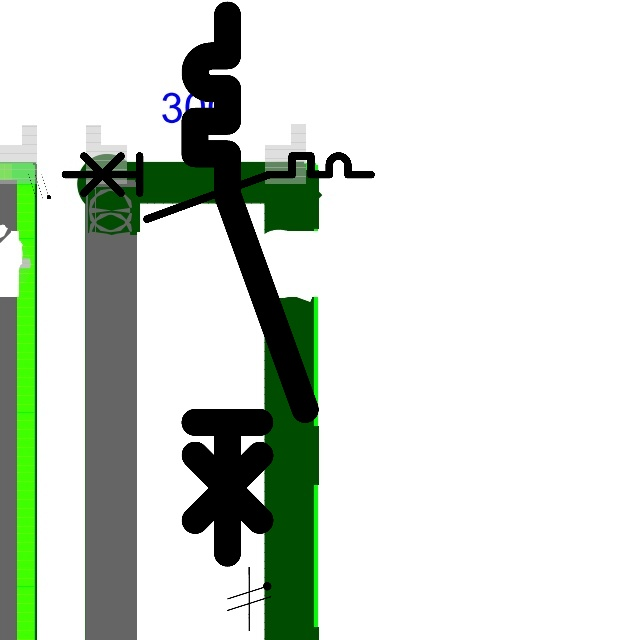interruptor_termomagnetico: (181, 1, 319, 566), (57, 148, 379, 226)
